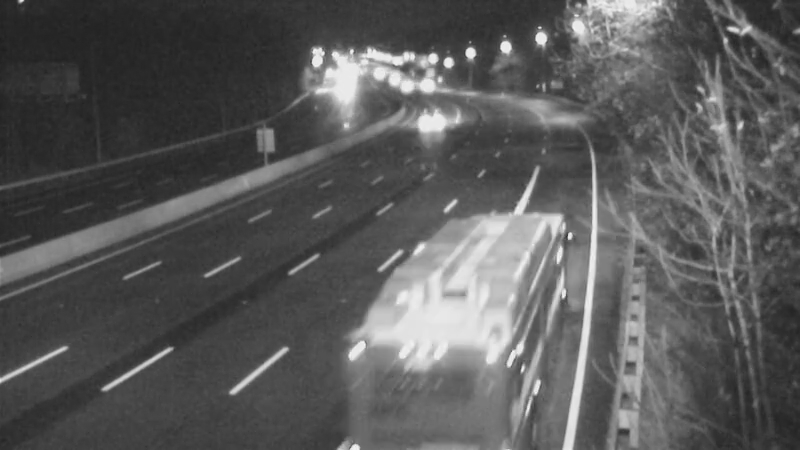vehicle: (442, 250, 522, 330), (352, 47, 402, 97), (367, 55, 417, 105), (378, 60, 428, 110), (403, 62, 453, 112), (405, 94, 455, 144), (319, 63, 369, 113)
